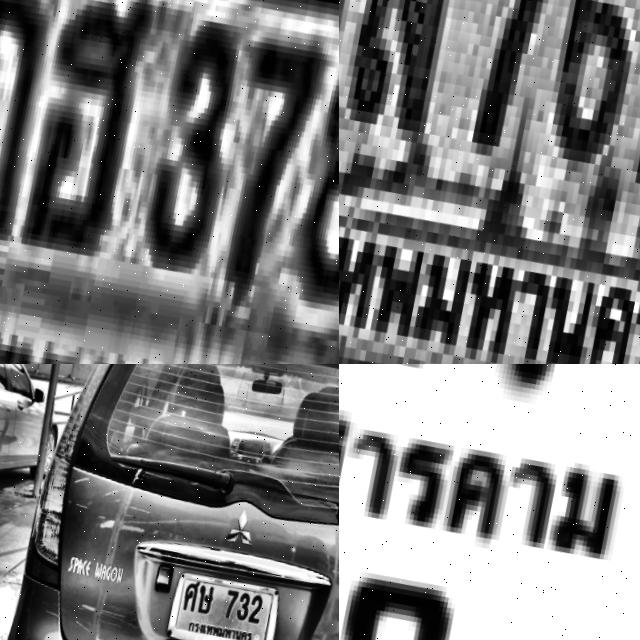license-plate: (0, 0, 339, 364), (339, 0, 640, 364), (339, 364, 640, 640), (155, 566, 287, 640)
